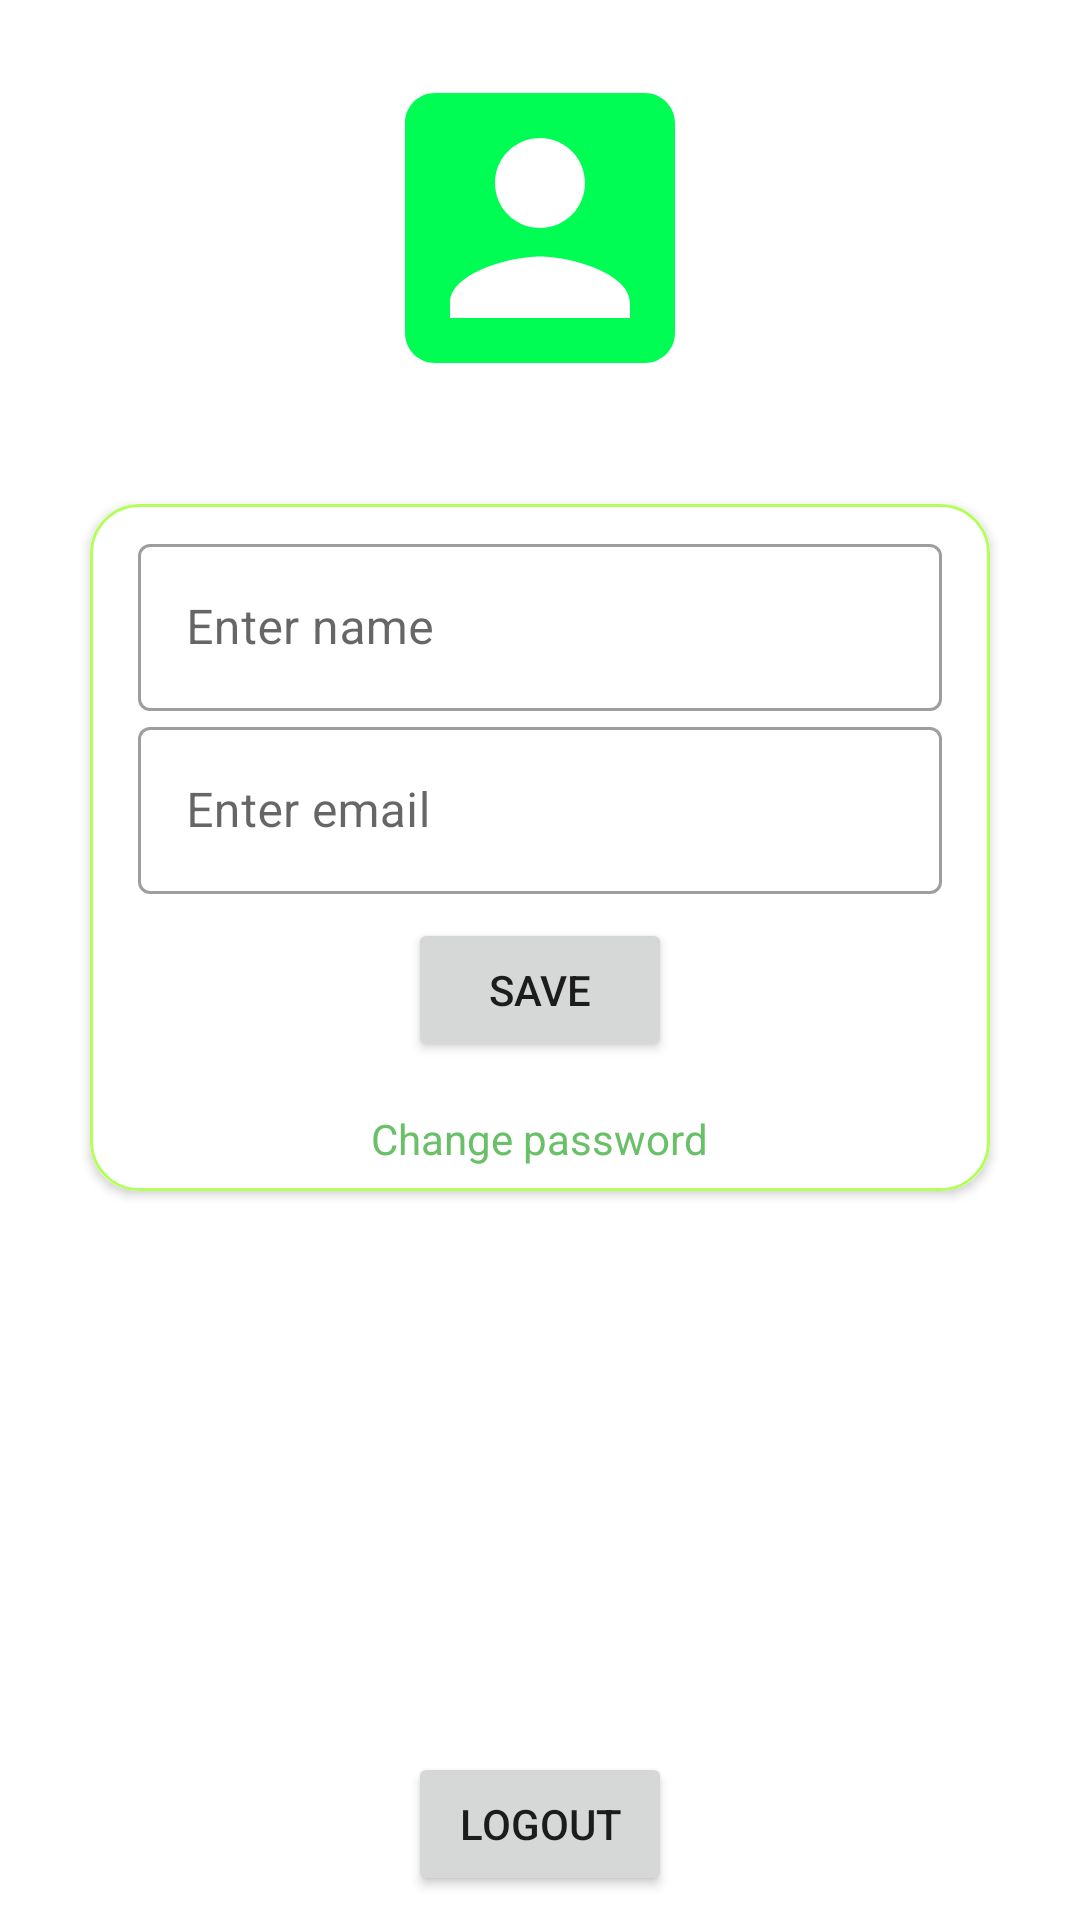

Screen size 1080 × 1920. Icon name, then its center in pixels as [x,y]:
account box: [540,228]
